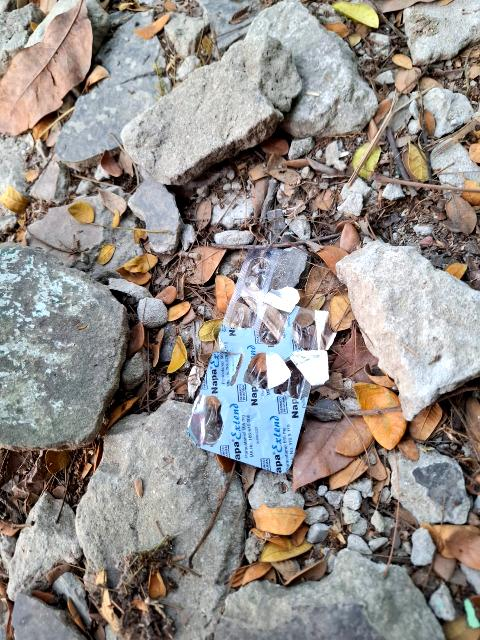medicine: (172, 275, 354, 491)
